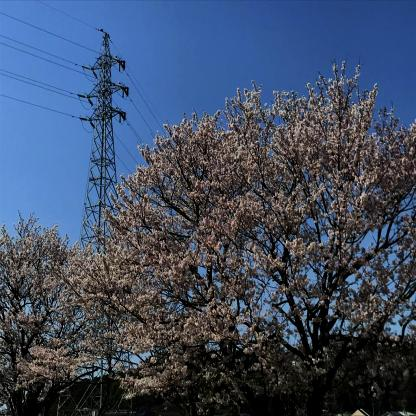Someiyoshino: (124, 69, 413, 413), (0, 211, 118, 389)
